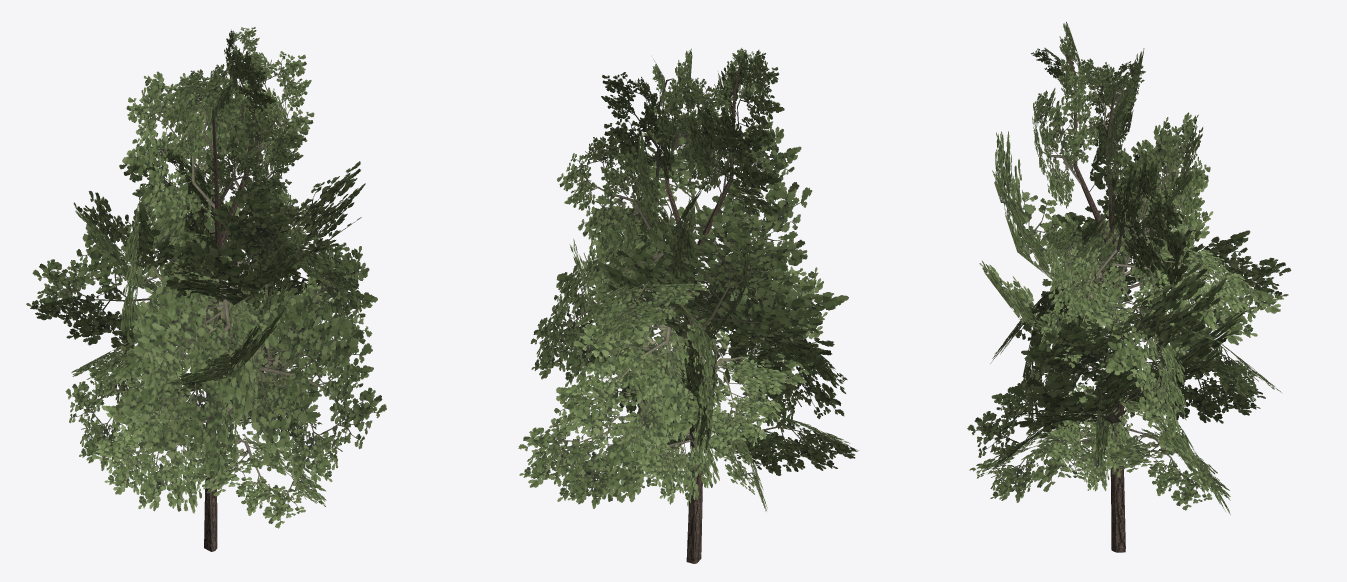
File: tree.glb
3 views of the same model, side by side, from view 1: azimuth 30°, elevation 25°; view 2: azimuth 150°, elevation 25°; view 3: azimuth 270°, elevation 25° (orthographic).
Parts seen in each view (by area): view 1: Tree-02.6; view 2: Tree-02.6; view 3: Tree-02.6.
Part boxes in pixels (x1,y1,x2,y2): Tree-02.6: (26, 27, 386, 551); Tree-02.6: (518, 48, 859, 563); Tree-02.6: (967, 21, 1291, 552).
Bounding box in the file's own units: 8.4 × 11.71 × 8.12.
Materials: 3 (3 with a texture image).
